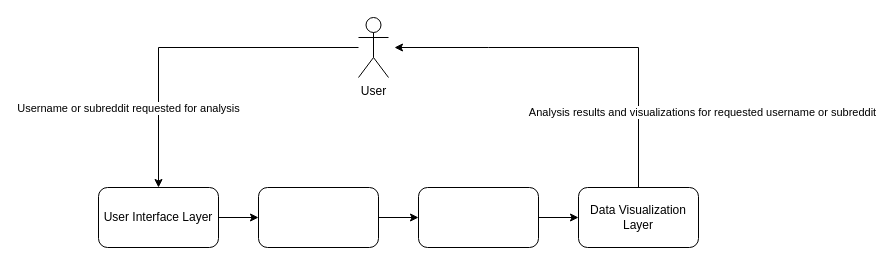
This 893x265 diagram has some shape labels left out. The centre of each missing label's shape, as x and y in pixels:
"Data Collection Layer" goes at (x=318, y=217).
"Data Processing Layer" goes at (x=478, y=217).
